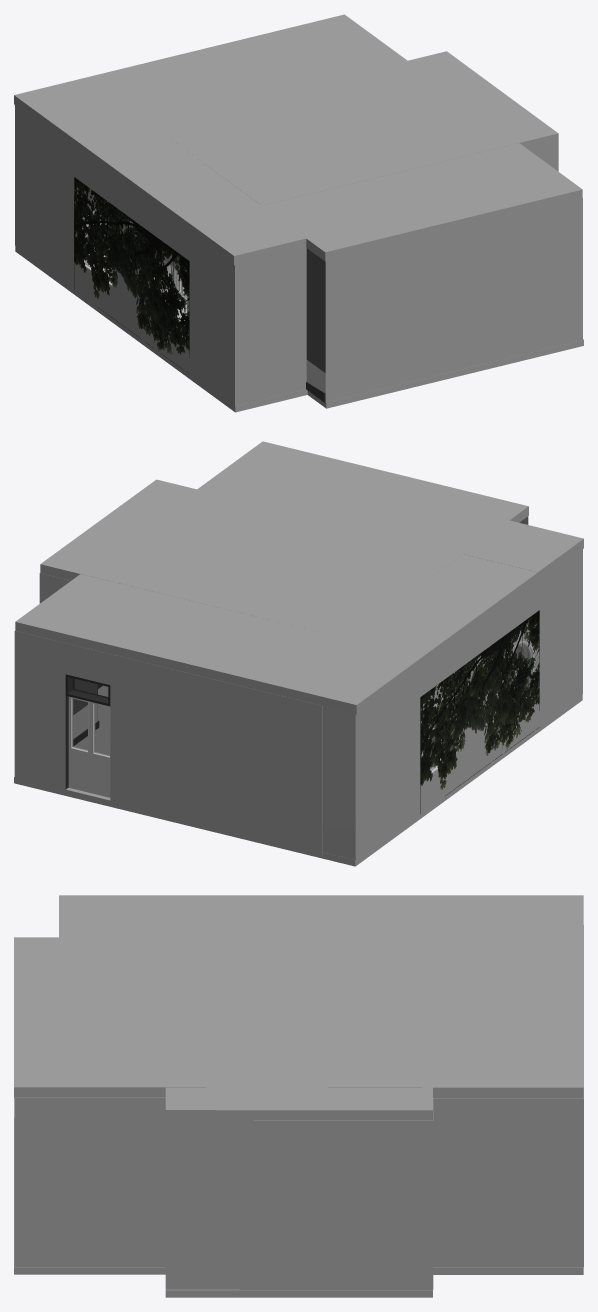
Rendered from room_whole_final_Resized.fbx.
3 renders of one model, top to bottom at view 1: azimuth 30°, elevation 25°; view 2: azimuth 150°, elevation 25°; view 3: azimuth 270°, elevation 25°, orthographic. The views are drawn at different scales.
Parts seen in each view (by area): view 1: roof, wall_short, wall_windows, pCube1, floor; view 2: roof, wall_door1, wall_windows, pCube1, floor, door_R2, door_L1, wall_long; view 3: roof, wall_long, floor.
Boxes of the visible parts, x1,y1,x2,y2 form: roof: (14,14,582,265); wall_short: (306,198,582,402); wall_windows: (15,105,306,406); pCube1: (74,177,189,374); floor: (15,246,583,412); roof: (15,441,583,714); wall_door1: (14,631,322,856); wall_windows: (322,549,582,860); pCube1: (420,610,539,813); floor: (14,685,582,866); door_R2: (68,696,90,792); door_L1: (90,702,110,797); wall_long: (39,573,102,745); roof: (14,895,583,1120); wall_long: (14,1097,583,1289); floor: (14,1118,583,1297).
Size of the model in its own units: 953 by 384 by 1061.
